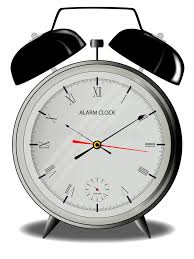alarm_clock: (8, 8, 183, 241)
